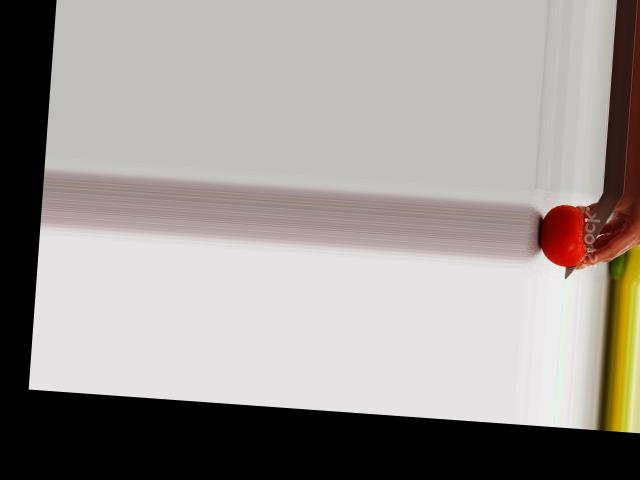tomato: (537, 202, 589, 268)
